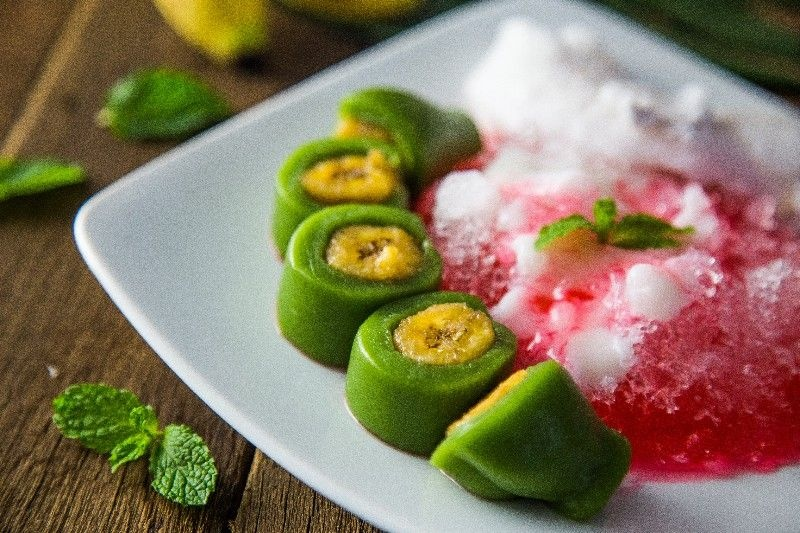pisang_ijo: (267, 186, 442, 336), (338, 288, 501, 435)
